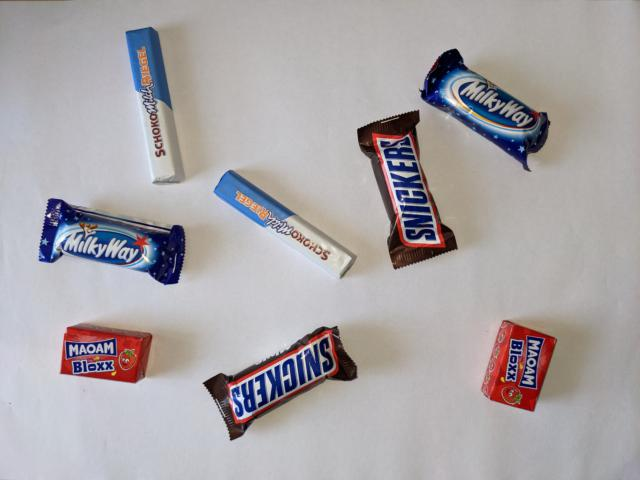MilkyWay: (416, 46, 554, 176), (35, 195, 189, 287)
Schokoriegel: (209, 167, 360, 282), (121, 26, 188, 189), (478, 317, 560, 415), (57, 324, 155, 386)
Snickers: (200, 323, 360, 444), (354, 107, 461, 272)
